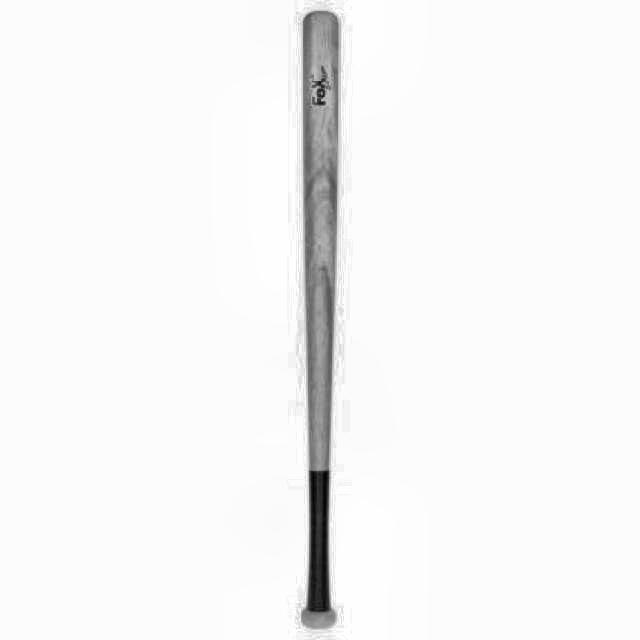tongkat pemukul: (275, 6, 352, 640)
